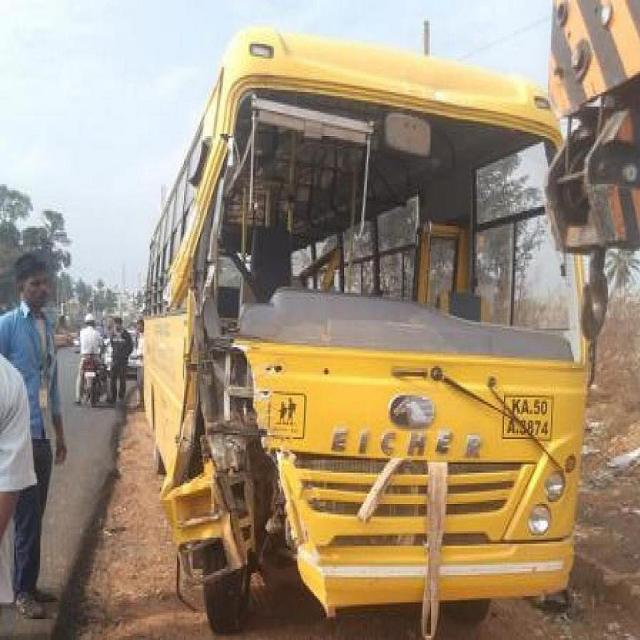accident: (145, 31, 586, 636)
